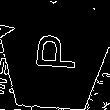P_W: (28, 39, 79, 80)
